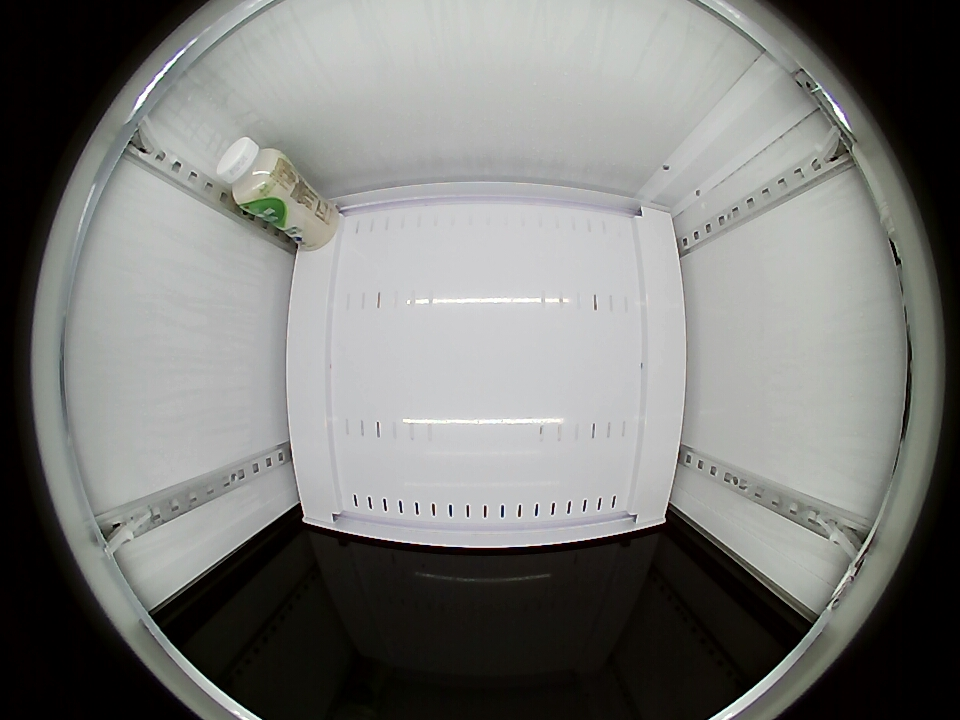yousuanru: (216, 137, 291, 213)
